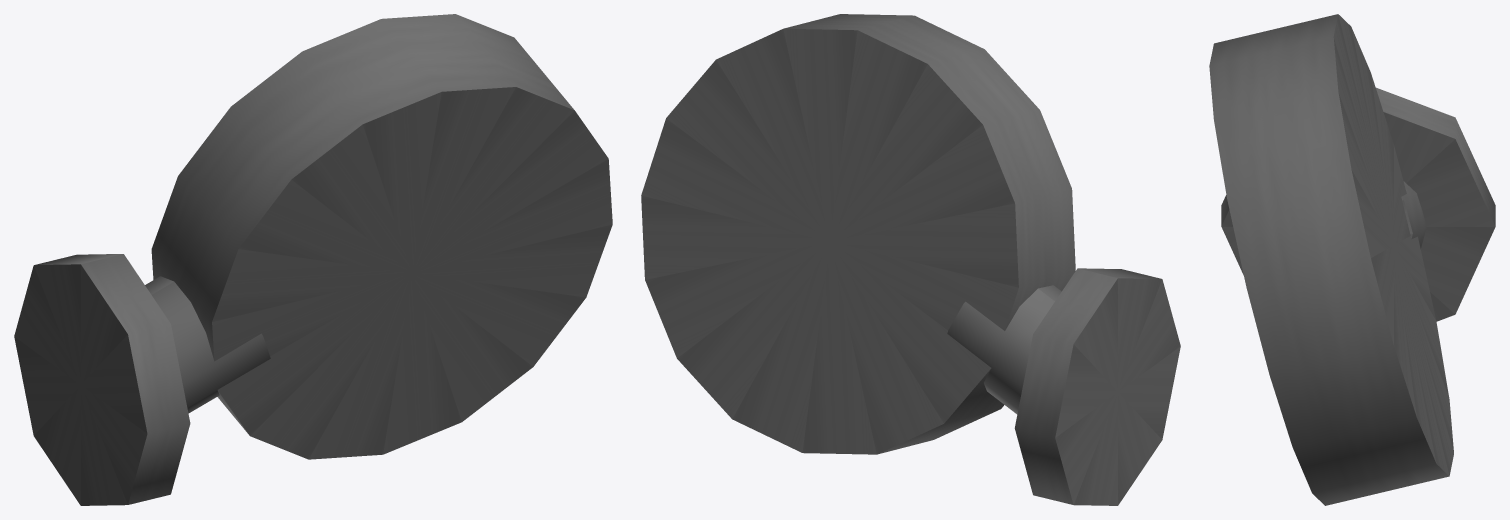
Rendered from mastarmcurve_10x2_c4_west.obj.
3 views of the same model, side by side, from view 1: azimuth 30°, elevation 25°; view 2: azimuth 150°, elevation 25°; view 3: azimuth 270°, elevation 25° (orthographic). The views are drawn at different scales.
Parts seen in each view (by area): view 1: mastarm_10x2_c4_west; view 2: mastarm_10x2_c4_west; view 3: mastarm_10x2_c4_west.
Boxes of the visible parts, bbox=[...] form: mastarm_10x2_c4_west: bbox=[14, 14, 612, 505]; mastarm_10x2_c4_west: bbox=[641, 14, 1180, 505]; mastarm_10x2_c4_west: bbox=[1209, 14, 1495, 505].
Size of the model in its own units: 0.8465 by 0.7191 by 0.4176.
